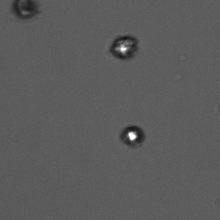Dead Cell: (8, 1, 44, 24)
Living Cell: (106, 31, 143, 63), (117, 122, 147, 148)
